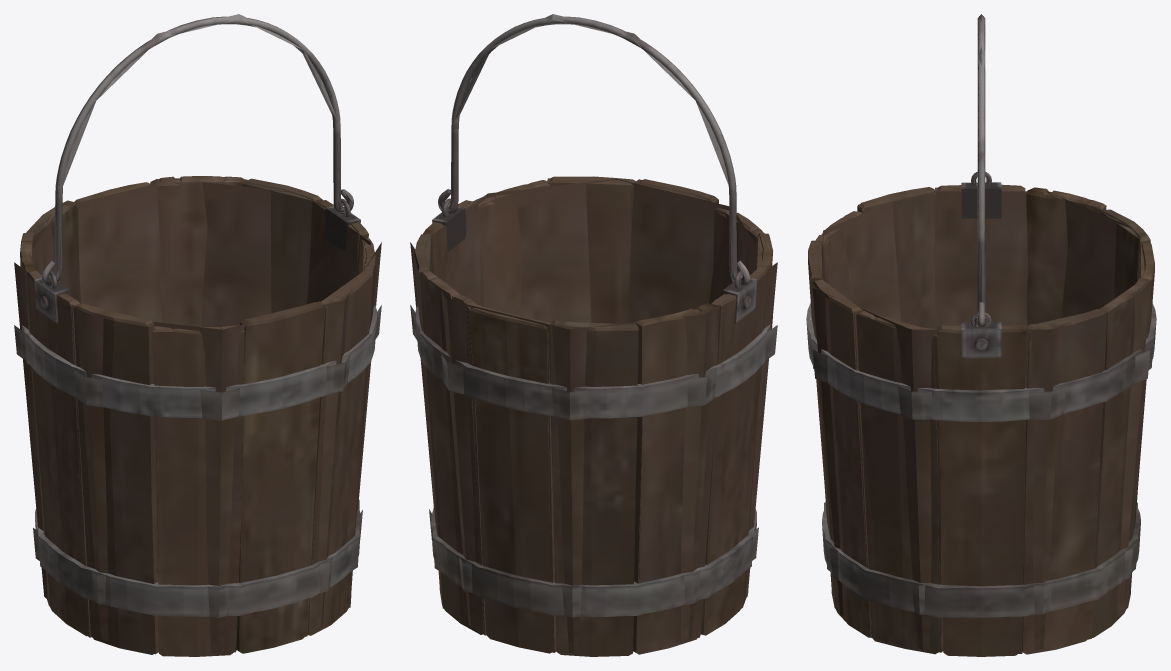
Rendered from Bucket.glb.
3 renders of one model, left to right at view 1: azimuth 30°, elevation 25°; view 2: azimuth 150°, elevation 25°; view 3: azimuth 270°, elevation 25°, orthographic.
Visible parts, largest first — view 1: Bucket; view 2: Bucket; view 3: Bucket.
Boxes of the visible parts, <box> form: Bucket: <box>14,14,381,656</box>; Bucket: <box>410,14,777,656</box>; Bucket: <box>806,14,1156,656</box>.
Bounding box in the file's own units: 0.483 × 0.844 × 0.4761.
1 material, 1 textured.
